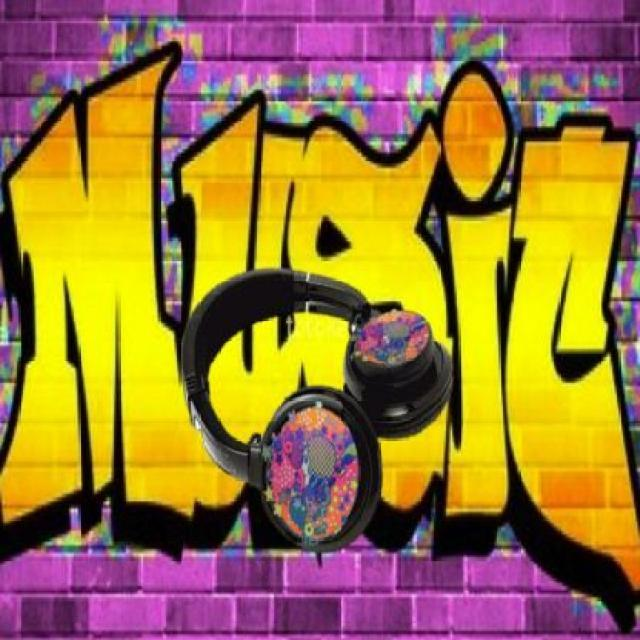earphone: (139, 232, 489, 554)
